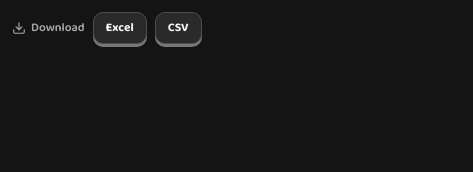
Test case: a failure while COLLECTING the rows is reported too, and saves nothing
Step 1. Click the button with test id "export-xlsx" → {"x": 120, "y": 28}, box top-left (93, 12), bottom-right (147, 44)
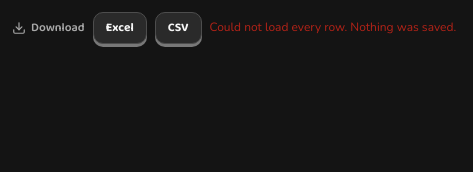
Expected: the text with test id "export-status" shows "Could not load every row", top-left (210, 19), bottom-right (456, 35)
